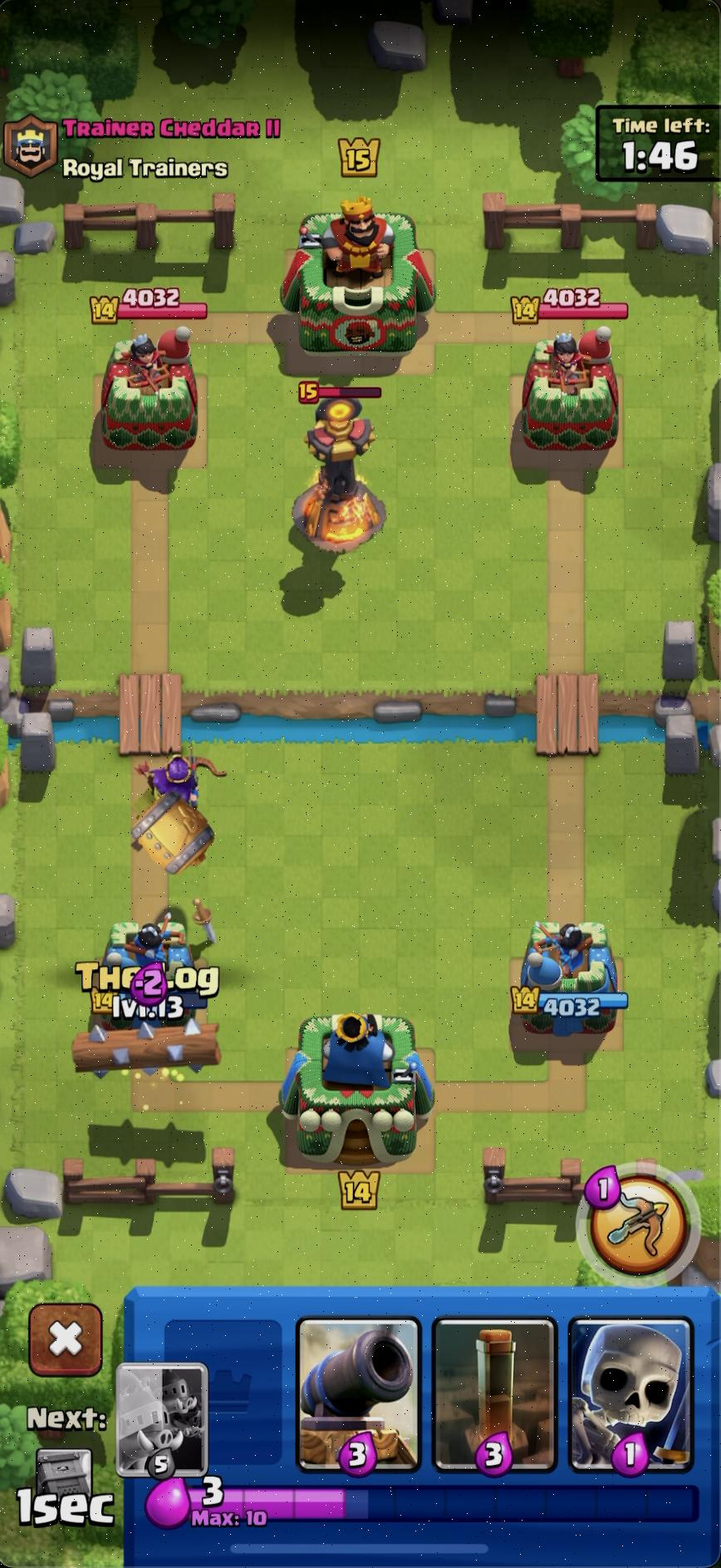card_cannon: (295, 1313, 420, 1477)
card_earthquake: (430, 1313, 561, 1473)
card_royaldelivery: (29, 1442, 97, 1525)
card_royalhogs: (114, 1361, 212, 1478)
card_skeletons: (566, 1312, 696, 1473)
